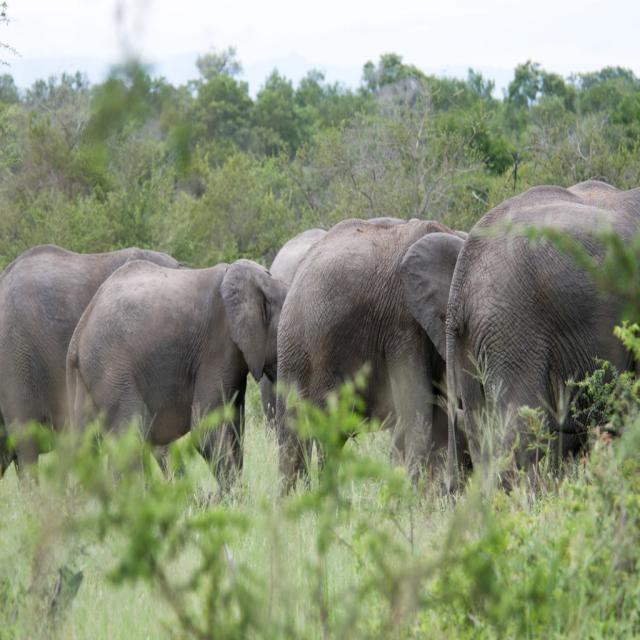elephant: (41, 256, 285, 586), (442, 184, 640, 524), (266, 221, 458, 514), (0, 243, 188, 542), (252, 229, 327, 450)
